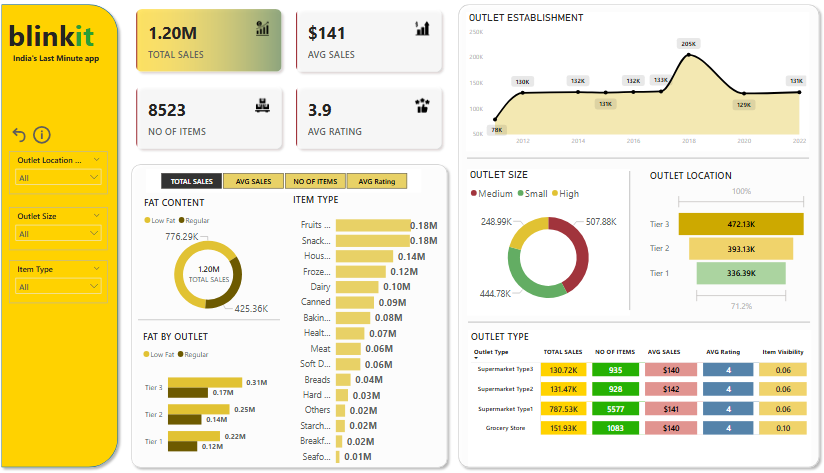

What the dashboard file says about the page in this screenshot:
{"tool":"powerbi","page":{"name":"Page 1","canvas":[1400,800],"ordinal":0},"visuals":[{"type":"shape","box":[772.5,0,627.5,800],"z":0},{"type":"donutChart","title":"OUTLET SIZE","fields":{"Category":["BlinkIT Grocery Data.Outlet Size"],"Y":["BlinkIT Grocery Data.TOTAL SALES"]},"box":[795,286.7,275,248.3],"z":1000},{"type":"lineChart","title":"OUTLET ESTABLISHMENT","fields":{"Category":["BlinkIT Grocery Data.Outlet Establishment Year"],"Y":["BlinkIT Grocery Data.TOTAL SALES"]},"box":[793.3,21.7,580,235],"z":2000},{"type":"shape","box":[220,270,551.7,530],"z":3000},{"type":"shape","box":[0,0,215,800],"z":4000},{"type":"clusteredBarChart","title":"FAT BY OUTLET","fields":{"Y":["BlinkIT Grocery Data.TOTAL SALES"],"Category":["BlinkIT Grocery Data.Outlet Location Type"],"Series":["BlinkIT Grocery Data.Item Fat Content"]},"box":[243.3,558.3,220,230],"z":5000},{"type":"donutChart","title":"FAT CONTENT","fields":{"Y":["BlinkIT Grocery Data.TOTAL SALES"],"Category":["BlinkIT Grocery Data.Item Fat Content"]},"box":[245,328.3,226.7,221.7],"z":6000},{"type":"clusteredBarChart","title":"ITEM TYPE","fields":{"Y":["BlinkIT Grocery Data.TOTAL SALES"],"Category":["BlinkIT Grocery Data.Item Type"]},"box":[496.7,328.3,255,471.7],"z":7000},{"type":"textbox","box":[8,22,168,92],"z":8000},{"type":"textbox","box":[0,86,202,40],"z":9000},{"type":"cardVisual","fields":{"Data":["BlinkIT Grocery Data.TOTAL SALES","BlinkIT Grocery Data.AVG SALES","BlinkIT Grocery Data.NO OF ITEMS","BlinkIT Grocery Data.AVG Rating"]},"box":[220,0,551.7,270],"z":10000},{"type":"slicer","fields":{"Values":["Metrics.Metrics"]},"box":[253.3,286.7,465,40],"z":11000},{"type":"cardVisual","fields":{"Data":["BlinkIT Grocery Data.TOTAL SALES"]},"box":[306.7,425,105,76.7],"z":12000},{"type":"shape","box":[240,525,240,33.3],"z":13000},{"type":"shape","box":[795,230,578.3,78.3],"z":14000},{"type":"funnel","title":"OUTLET LOCATION","fields":{"Category":["BlinkIT Grocery Data.Outlet Location Type"],"Y":["BlinkIT Grocery Data.TOTAL SALES"]},"box":[1100,286.7,275,248.3],"z":15000},{"type":"shape","box":[1030,290,80,235],"z":16000},{"type":"shape","box":[796.7,506.7,578.3,78.3],"z":17000},{"type":"pivotTable","title":"OUTLET TYPE","fields":{"Rows":["BlinkIT Grocery Data.Outlet Type"],"Values":["BlinkIT Grocery Data.TOTAL SALES","BlinkIT Grocery Data.NO OF ITEMS","BlinkIT Grocery Data.AVG SALES","BlinkIT Grocery Data.AVG Rating","Avg(BlinkIT Grocery Data.Item Visibility)"]},"box":[796.7,558.3,580,230],"z":18000},{"type":"slicer","fields":{"Values":["BlinkIT Grocery Data.Outlet Location Type"]},"box":[21.7,256.7,166.7,73.3],"z":19000},{"type":"slicer","fields":{"Values":["BlinkIT Grocery Data.Item Type"]},"box":[21.7,440,166.7,73.3],"z":20000},{"type":"slicer","fields":{"Values":["BlinkIT Grocery Data.Outlet Size"]},"box":[21.7,351.7,166.7,73.3],"z":21000},{"type":"actionButton","box":[57.1,210,50,40],"z":22000},{"type":"actionButton","box":[21.4,210,34.3,40],"z":23000}]}

Visuals, with their boxes in screenshot pixels (x1, y1, x2, y2), scaled from the page's 1400x800 canvas onto the 824x473 screenshot:
shape: box(455, 0, 823, 472)
"OUTLET SIZE" donutChart: box(468, 170, 630, 316)
"OUTLET ESTABLISHMENT" lineChart: box(467, 13, 808, 152)
shape: box(129, 160, 454, 472)
shape: box(0, 0, 127, 472)
"FAT BY OUTLET" clusteredBarChart: box(143, 330, 273, 466)
"FAT CONTENT" donutChart: box(144, 194, 278, 325)
"ITEM TYPE" clusteredBarChart: box(292, 194, 442, 472)
textbox: box(5, 13, 104, 67)
textbox: box(0, 51, 119, 74)
cardVisual - BlinkIT Grocery Data.TOTAL SALES x BlinkIT Grocery Data.AVG SALES: box(129, 0, 454, 160)
slicer - Metrics.Metrics: box(149, 170, 423, 193)
cardVisual - BlinkIT Grocery Data.TOTAL SALES: box(181, 251, 242, 297)
shape: box(141, 310, 283, 330)
shape: box(468, 136, 808, 182)
"OUTLET LOCATION" funnel: box(647, 170, 809, 316)
shape: box(606, 171, 653, 310)
shape: box(469, 300, 809, 346)
"OUTLET TYPE" pivotTable: box(469, 330, 810, 466)
slicer - BlinkIT Grocery Data.Outlet Location Type: box(13, 152, 111, 195)
slicer - BlinkIT Grocery Data.Item Type: box(13, 260, 111, 303)
slicer - BlinkIT Grocery Data.Outlet Size: box(13, 208, 111, 251)
actionButton: box(34, 124, 63, 148)
actionButton: box(13, 124, 33, 148)
